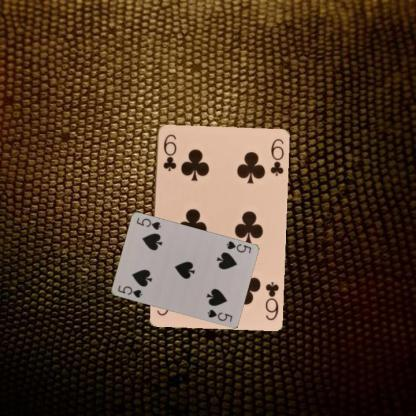5s: (115, 282, 143, 300), (223, 238, 252, 254)
6c: (262, 278, 280, 322), (160, 131, 177, 172)
